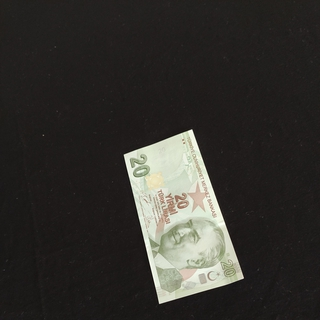20TLFront: (123, 128, 244, 304)
